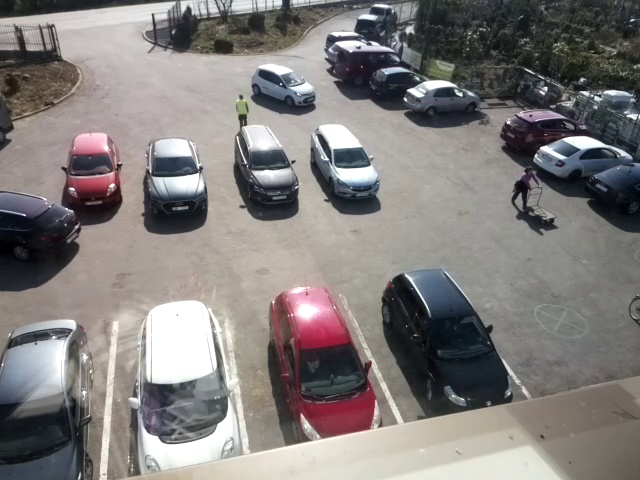car: (381, 270, 512, 415), (133, 301, 240, 474), (268, 285, 381, 444), (1, 320, 92, 480), (1, 187, 81, 257), (235, 125, 299, 208), (312, 124, 381, 200), (62, 131, 122, 216), (146, 139, 209, 219), (535, 135, 633, 183), (501, 109, 596, 152), (333, 46, 411, 85), (250, 65, 316, 109), (588, 159, 640, 213), (405, 79, 480, 115), (370, 67, 433, 101), (320, 30, 375, 65), (324, 39, 384, 67), (353, 14, 389, 41), (365, 4, 401, 27)
